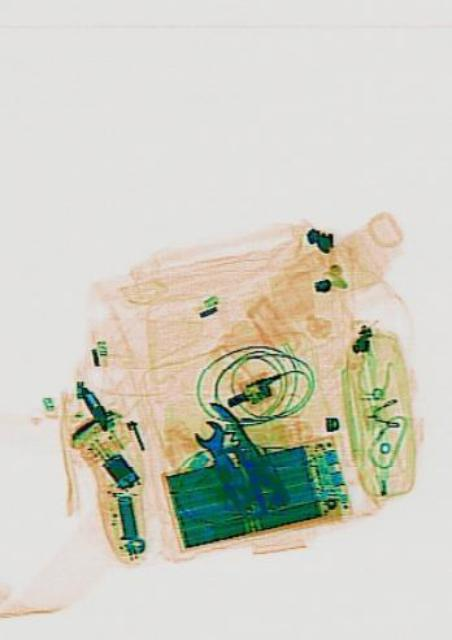Knife: (202, 392, 292, 516)
Wrench: (189, 411, 251, 509)
